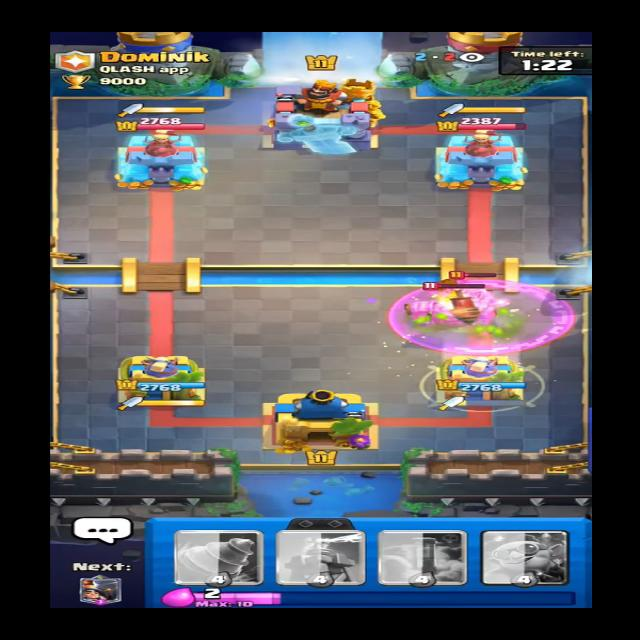goblin-machine: (403, 284, 490, 332)
rage: (388, 281, 576, 352)
